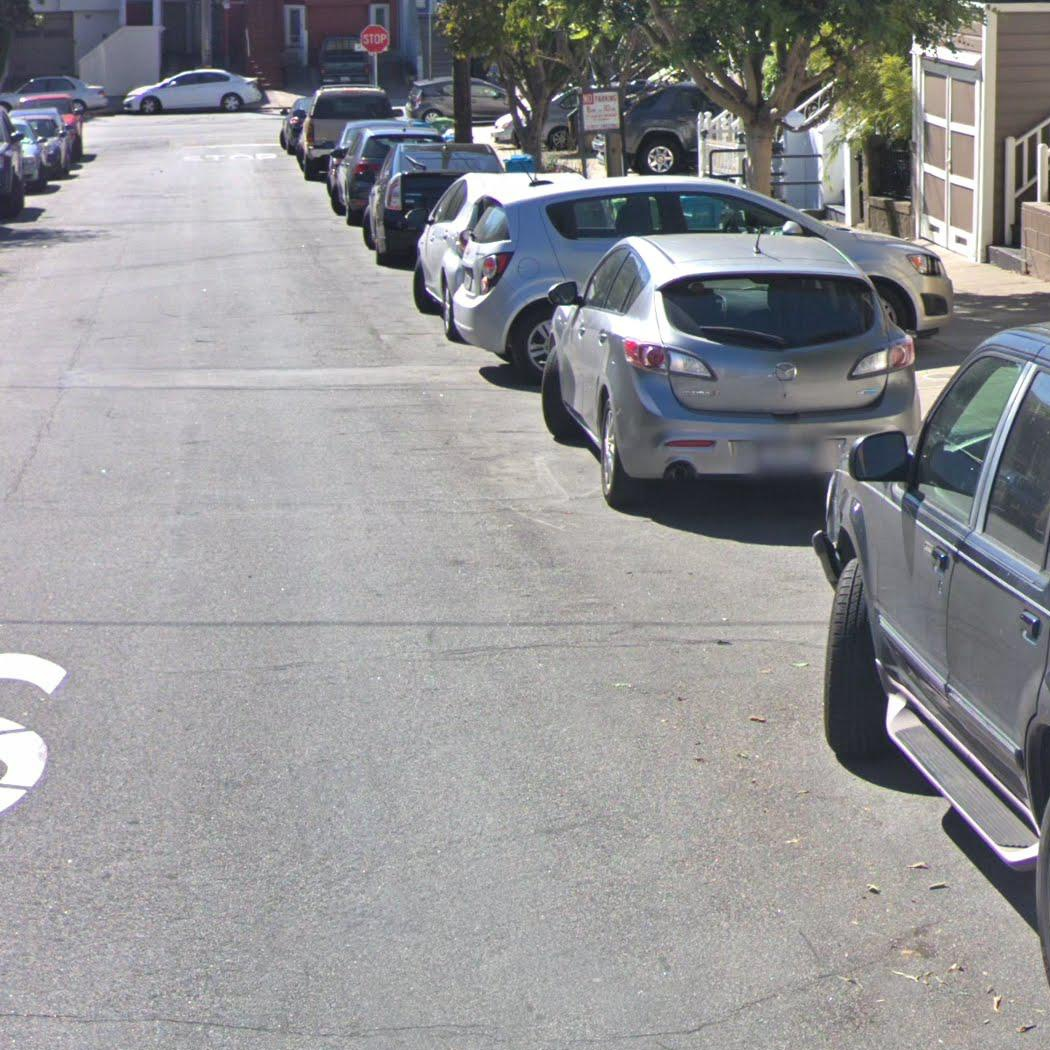No Parking: (578, 90, 623, 133)
